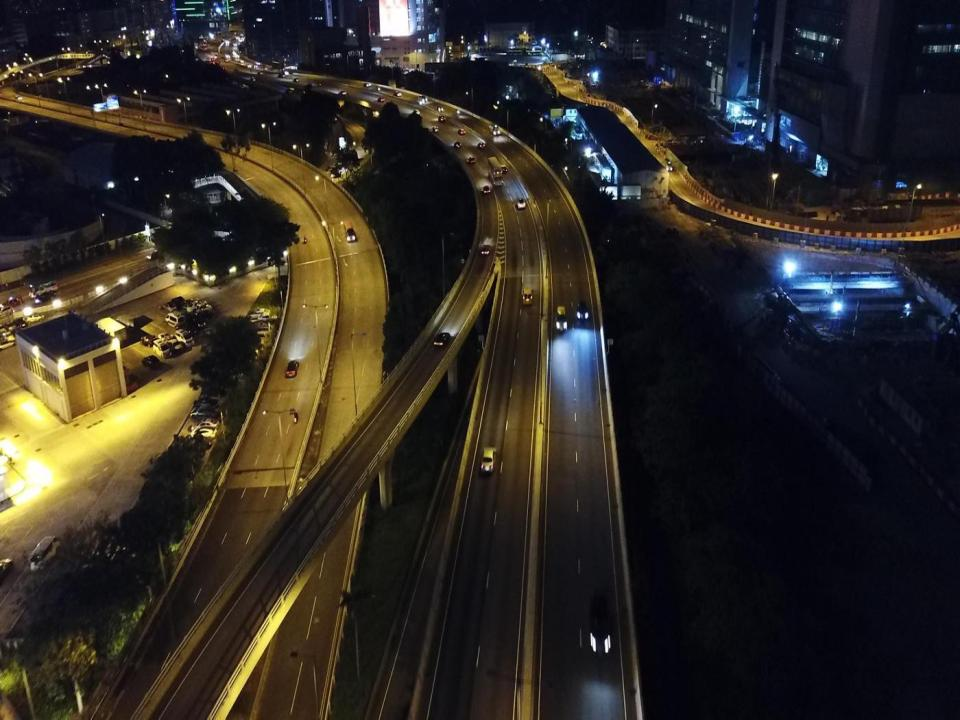bus: (526, 46, 543, 56), (506, 46, 522, 56), (662, 158, 673, 172), (488, 122, 499, 134), (471, 57, 487, 63), (486, 46, 491, 56), (484, 45, 488, 56), (480, 45, 484, 55), (491, 45, 494, 55)
car: (588, 591, 610, 656), (480, 446, 496, 474), (0, 557, 14, 586), (185, 436, 213, 448), (0, 296, 23, 310), (190, 426, 218, 437), (190, 406, 218, 417), (556, 305, 567, 332), (193, 397, 220, 408), (191, 420, 219, 430), (187, 300, 207, 314), (188, 313, 206, 328), (141, 356, 160, 369), (251, 324, 272, 335), (249, 308, 270, 319), (35, 292, 56, 303), (434, 332, 450, 346), (578, 300, 588, 322), (286, 359, 298, 377), (257, 314, 278, 324), (196, 310, 215, 320), (26, 312, 45, 322), (168, 339, 182, 352), (183, 299, 199, 310), (0, 340, 16, 351), (523, 288, 532, 307), (0, 306, 14, 317), (140, 336, 155, 346), (183, 322, 198, 332), (172, 296, 185, 307), (162, 302, 176, 312), (196, 304, 213, 312), (481, 244, 492, 256), (148, 250, 164, 258), (158, 332, 172, 340), (5, 322, 16, 332), (1, 332, 14, 340), (14, 319, 26, 327), (518, 198, 525, 210), (0, 326, 7, 335), (500, 164, 507, 172), (454, 141, 462, 148), (469, 156, 475, 165), (483, 185, 490, 192), (15, 94, 23, 100), (479, 142, 485, 149), (432, 126, 438, 133), (457, 128, 465, 133), (338, 90, 346, 95), (394, 91, 401, 96), (377, 97, 385, 101), (257, 70, 263, 75), (285, 89, 292, 93), (364, 83, 370, 87), (255, 61, 260, 65), (293, 78, 299, 81), (278, 74, 284, 77), (247, 64, 251, 68), (239, 59, 244, 62), (224, 59, 229, 62), (225, 54, 230, 57), (253, 64, 257, 67), (235, 55, 240, 57), (222, 67, 226, 69), (207, 59, 211, 61), (211, 58, 215, 60), (213, 56, 217, 58)
truck: (95, 316, 127, 347), (488, 156, 502, 185), (114, 316, 134, 334), (343, 221, 356, 242), (450, 52, 452, 60)
van: (30, 535, 60, 569), (34, 281, 59, 296), (153, 339, 171, 359), (175, 329, 195, 347), (165, 312, 186, 329), (418, 95, 427, 102), (438, 116, 445, 122), (250, 77, 255, 81)
